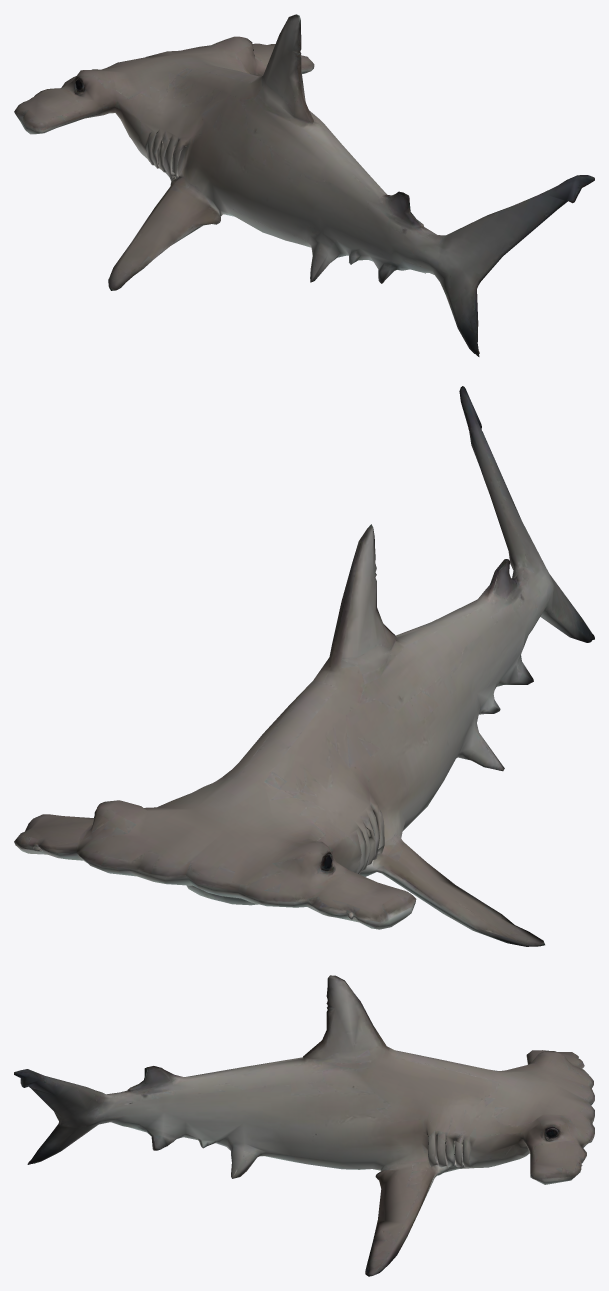
Rendered from hamerhaai.glb.
3 views of the same model, one above another, from view 1: azimuth 30°, elevation 25°; view 2: azimuth 150°, elevation 25°; view 3: azimuth 270°, elevation 25° (orthographic). The views are drawn at different scales.
Parts seen in each view (by area): view 1: tripo_node_abefd7fa-7715-42b9-baec-821ce74bb0f3; view 2: tripo_node_abefd7fa-7715-42b9-baec-821ce74bb0f3; view 3: tripo_node_abefd7fa-7715-42b9-baec-821ce74bb0f3.
Part boxes in pixels (left/top/right/bottom): tripo_node_abefd7fa-7715-42b9-baec-821ce74bb0f3: left=14, top=14, right=594, bottom=356; tripo_node_abefd7fa-7715-42b9-baec-821ce74bb0f3: left=14, top=386, right=594, bottom=946; tripo_node_abefd7fa-7715-42b9-baec-821ce74bb0f3: left=14, top=975, right=594, bottom=1276.
Bounding box in the file's own units: 4.04 × 3.5 × 7.68.
Materials: 1 (1 with a texture image).
